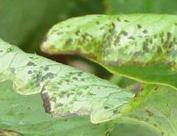Tomato leaf bacterial spot: (0, 5, 138, 136), (32, 9, 177, 97)
